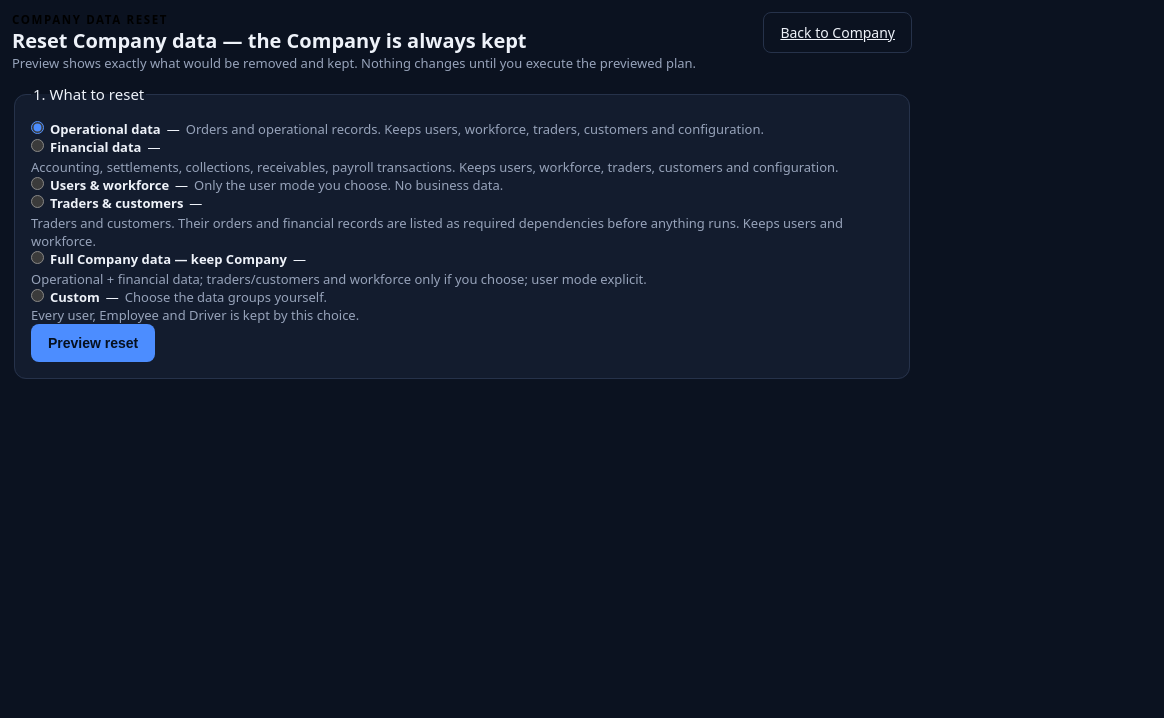
Scenario: Company Data Reset page › Traders & customers sends CUSTOM + TRADERS_CUSTOMERS (users kept) and lists the required dependencies before anything runs
This screenshot has width=1164, height=718.
Click the 4th radio button at (38, 202), box [31,195,44,208]
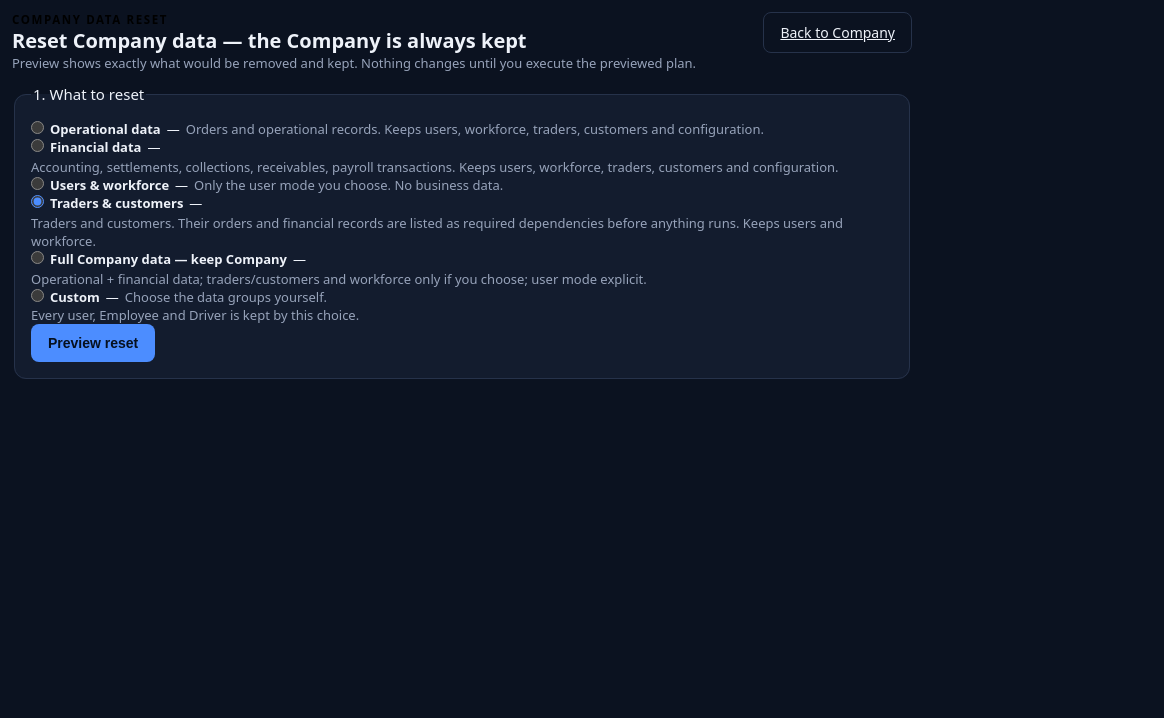
Expected: the text "Every user, Employee and Driver is kept by this choice." is shown, [31,306,359,324]
Click the button "Preview reset" at (93, 343), box [31,324,155,362]
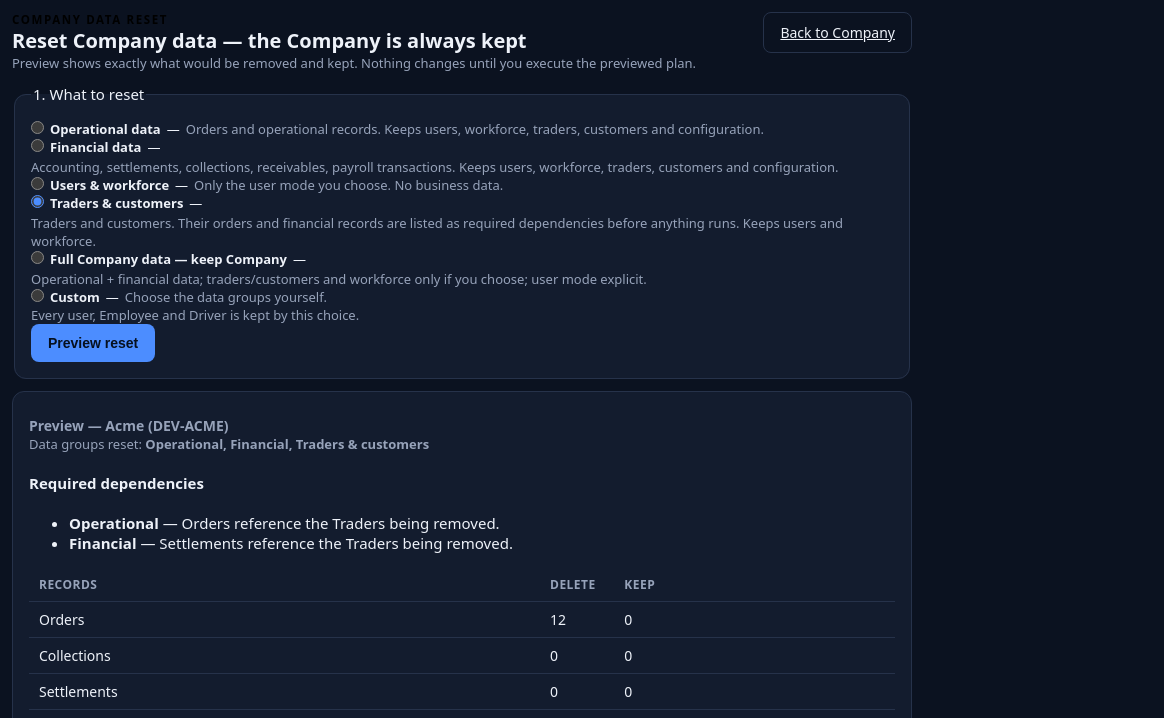
Expected: the text with test id "effective-domains" reads "Operational, Financial, Traders & customers", [145,435,429,453]
